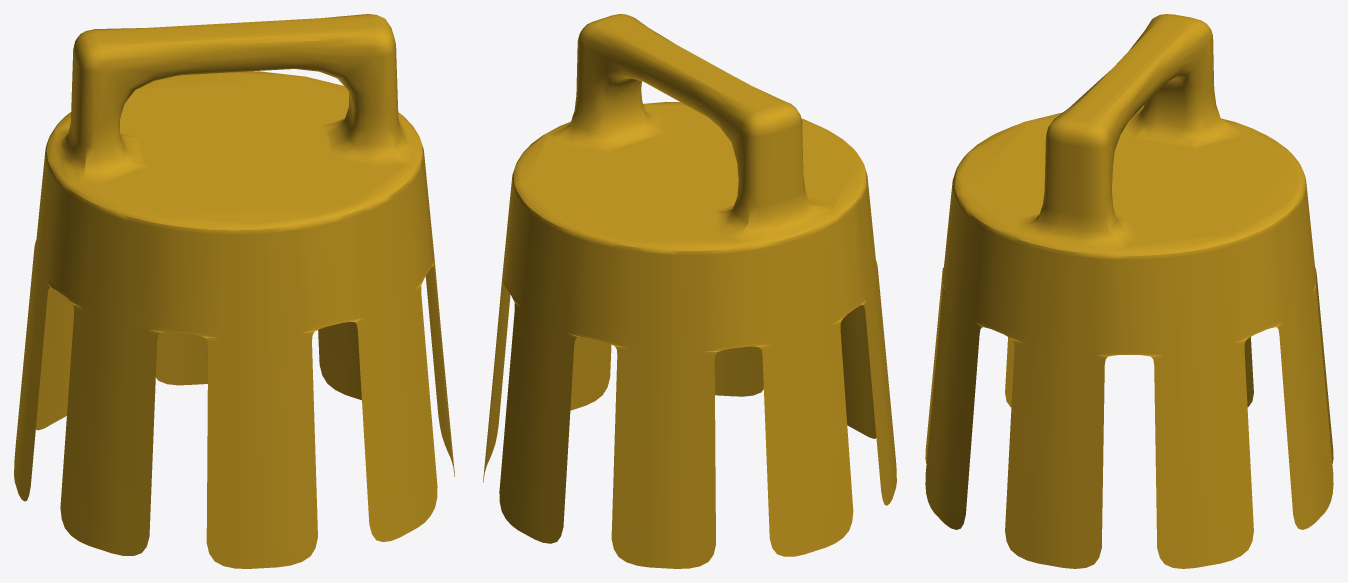
The model's file is cap.glb.
3 views of the same model, side by side, from view 1: azimuth 30°, elevation 25°; view 2: azimuth 150°, elevation 25°; view 3: azimuth 270°, elevation 25° (orthographic). The views are drawn at different scales.
Parts seen in each view (by area): view 1: Mesh_1; view 2: Mesh_1; view 3: Mesh_1.
Part boxes in pixels (bbox=[...]): Mesh_1: bbox=[14, 14, 454, 568]; Mesh_1: bbox=[483, 14, 896, 568]; Mesh_1: bbox=[925, 14, 1333, 568].
Bounding box in the file's own units: 0.2394 × 0.2699 × 0.2394.
